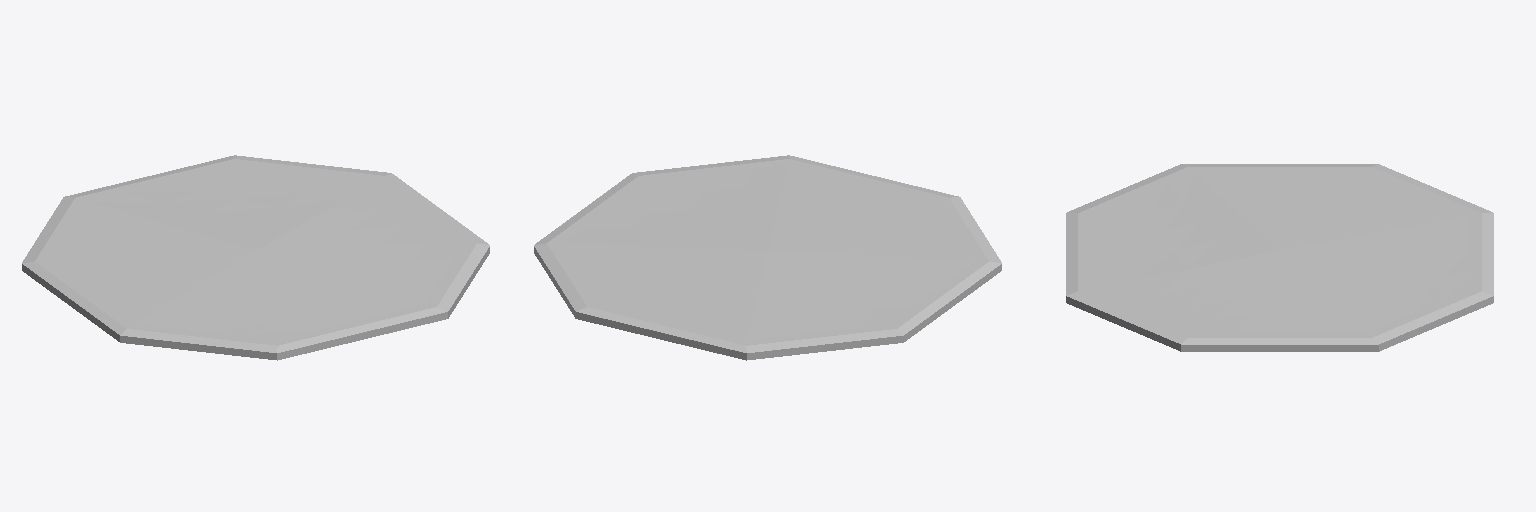
The model's file is floor.obj.
3 renders of one model, left to right at view 1: azimuth 30°, elevation 25°; view 2: azimuth 150°, elevation 25°; view 3: azimuth 270°, elevation 25°, orthographic.
Parts seen in each view (by area): view 1: floor.000; view 2: floor.000; view 3: floor.000.
Boxes of the visible parts, x1,y1,x2,y2 form: floor.000: [22, 155, 489, 360]; floor.000: [534, 155, 1001, 360]; floor.000: [1066, 164, 1493, 351].
Size of the model in its own units: 32.5 by 0.9254 by 32.5.